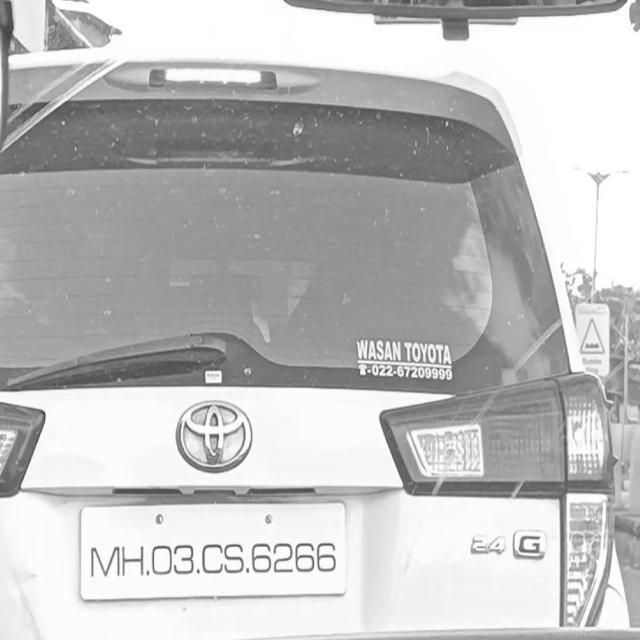license-plate: (82, 504, 348, 594)
